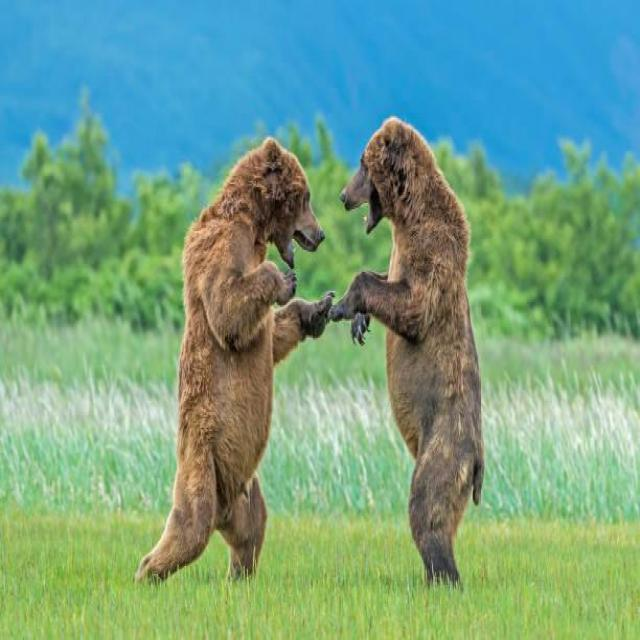Bear: (135, 138, 336, 585), (337, 118, 485, 588)
